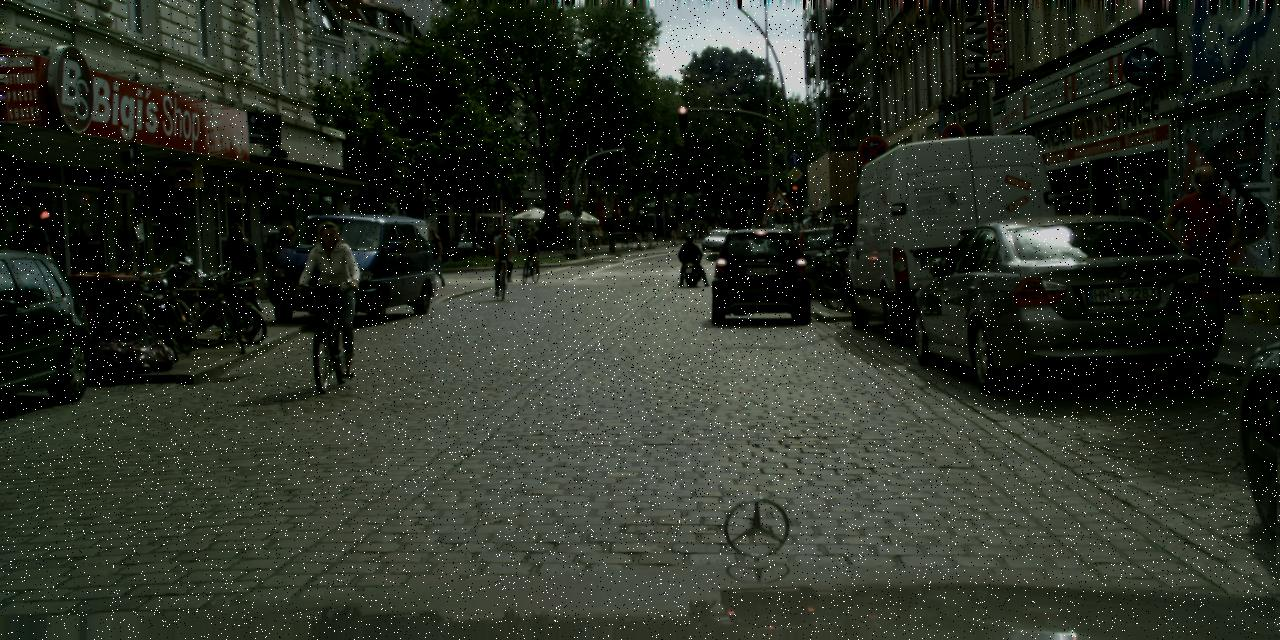ped: (1174, 164, 1240, 326), (305, 222, 359, 355), (3, 204, 53, 326), (1049, 201, 1086, 294), (221, 223, 258, 313), (276, 225, 306, 297), (490, 226, 516, 288), (422, 227, 445, 284), (680, 233, 701, 286), (509, 223, 540, 250), (476, 223, 501, 256), (524, 230, 538, 268), (591, 227, 603, 244), (688, 219, 696, 239), (577, 226, 585, 246), (634, 221, 642, 240), (711, 218, 718, 238), (527, 248, 529, 249)
